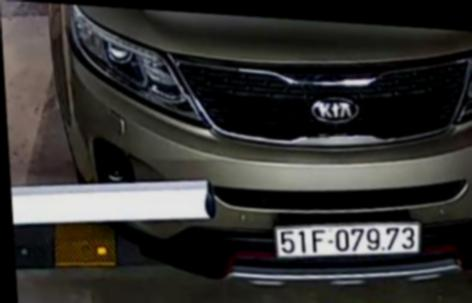License_Plate: (264, 216, 425, 267)
